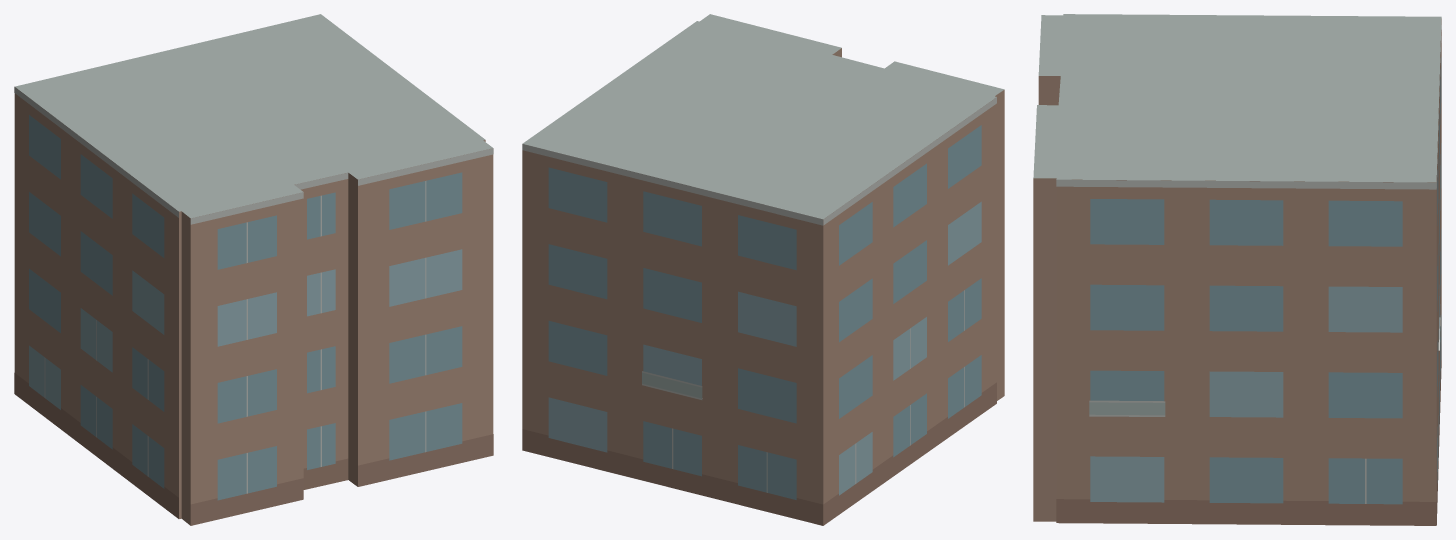
File: survey-upis-32945390.glb
3 renders of one model, left to right at view 1: azimuth 30°, elevation 25°; view 2: azimuth 150°, elevation 25°; view 3: azimuth 270°, elevation 25°, orthographic. The views are drawn at different scales.
Visible parts, largest first — view 1: survey-upis-32945390.tmp; view 2: survey-upis-32945390.tmp; view 3: survey-upis-32945390.tmp.
Part boxes in pixels (bbox=[...]): survey-upis-32945390.tmp: bbox=[14, 14, 493, 525]; survey-upis-32945390.tmp: bbox=[522, 14, 1004, 525]; survey-upis-32945390.tmp: bbox=[1033, 14, 1441, 525].
Size of the model in its own units: 12.42 by 11.8 by 12.72.
